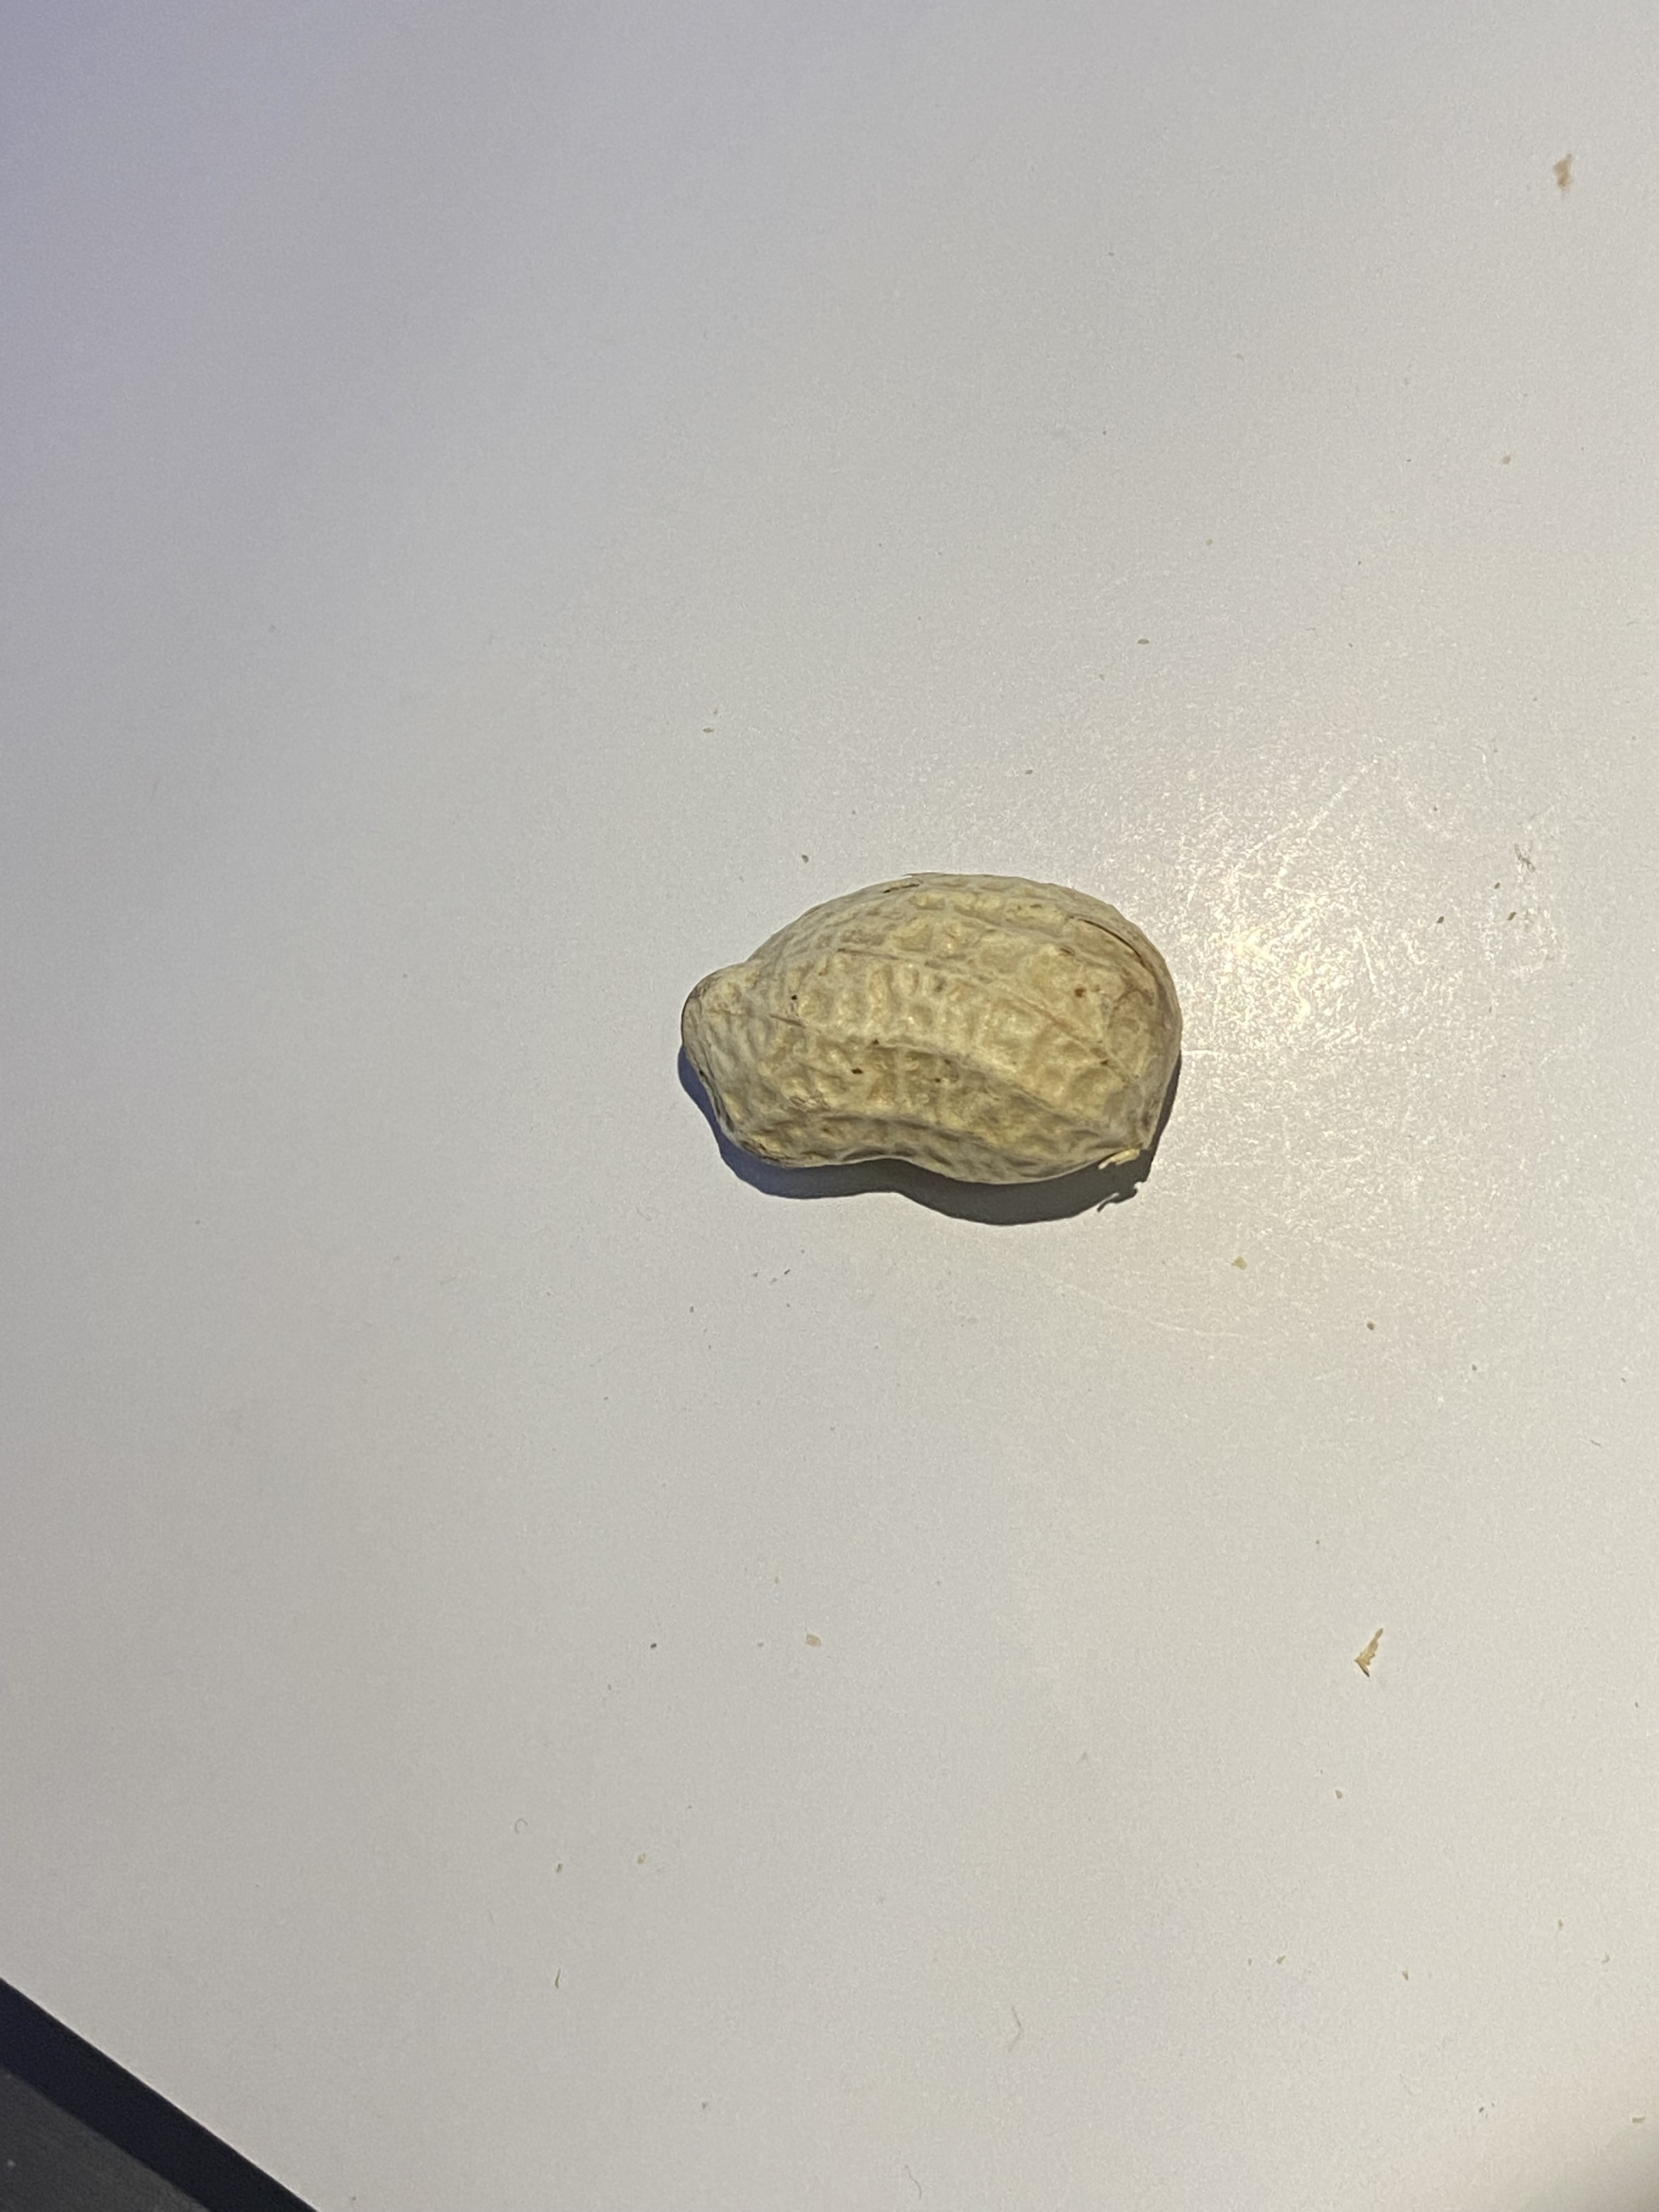kacang1: (627, 834, 1225, 1195)
